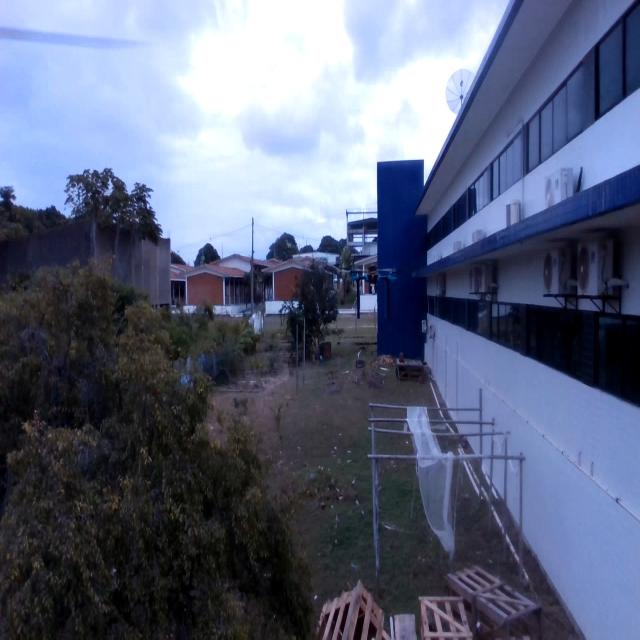-uav-: (335, 237, 417, 339)
